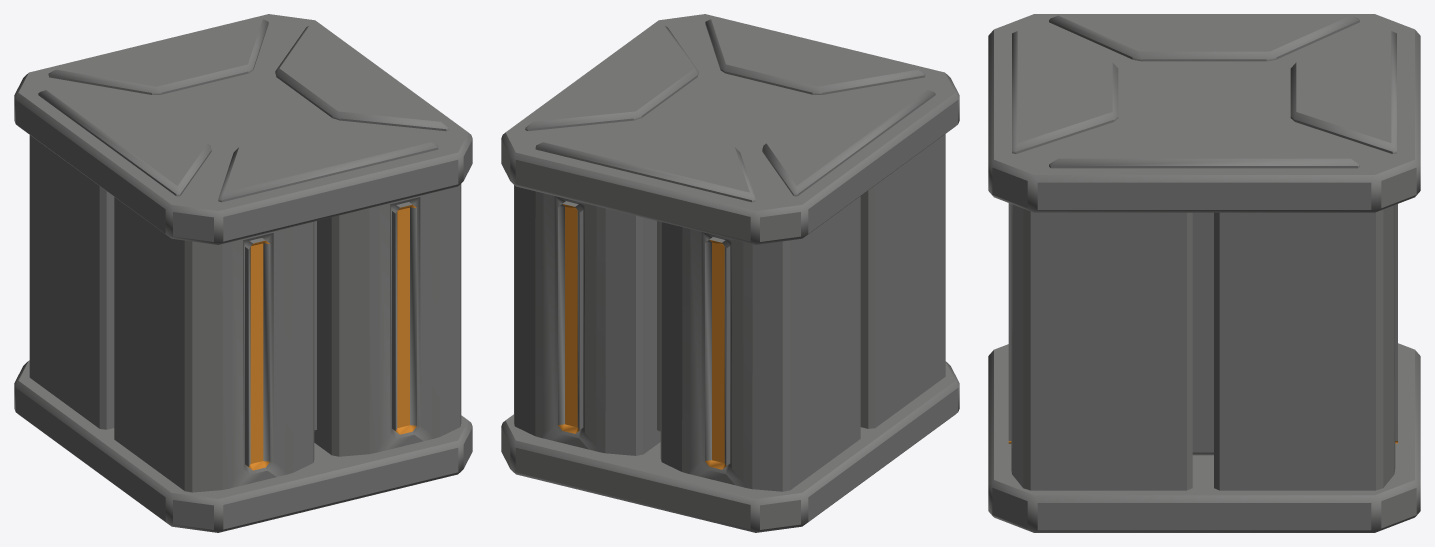
The model's file is Battery.fbx.
3 renders of one model, left to right at view 1: azimuth 30°, elevation 25°; view 2: azimuth 150°, elevation 25°; view 3: azimuth 270°, elevation 25°, orthographic. The views are drawn at different scales.
Visible parts, largest first — view 1: battery_big; view 2: battery_big; view 3: battery_big.
Boxes of the visible parts, x1,y1,x2,y2 form: battery_big: [14, 14, 472, 532]; battery_big: [501, 14, 959, 532]; battery_big: [988, 14, 1420, 532].
Bounding box in the file's own units: 378 × 388 × 416.
